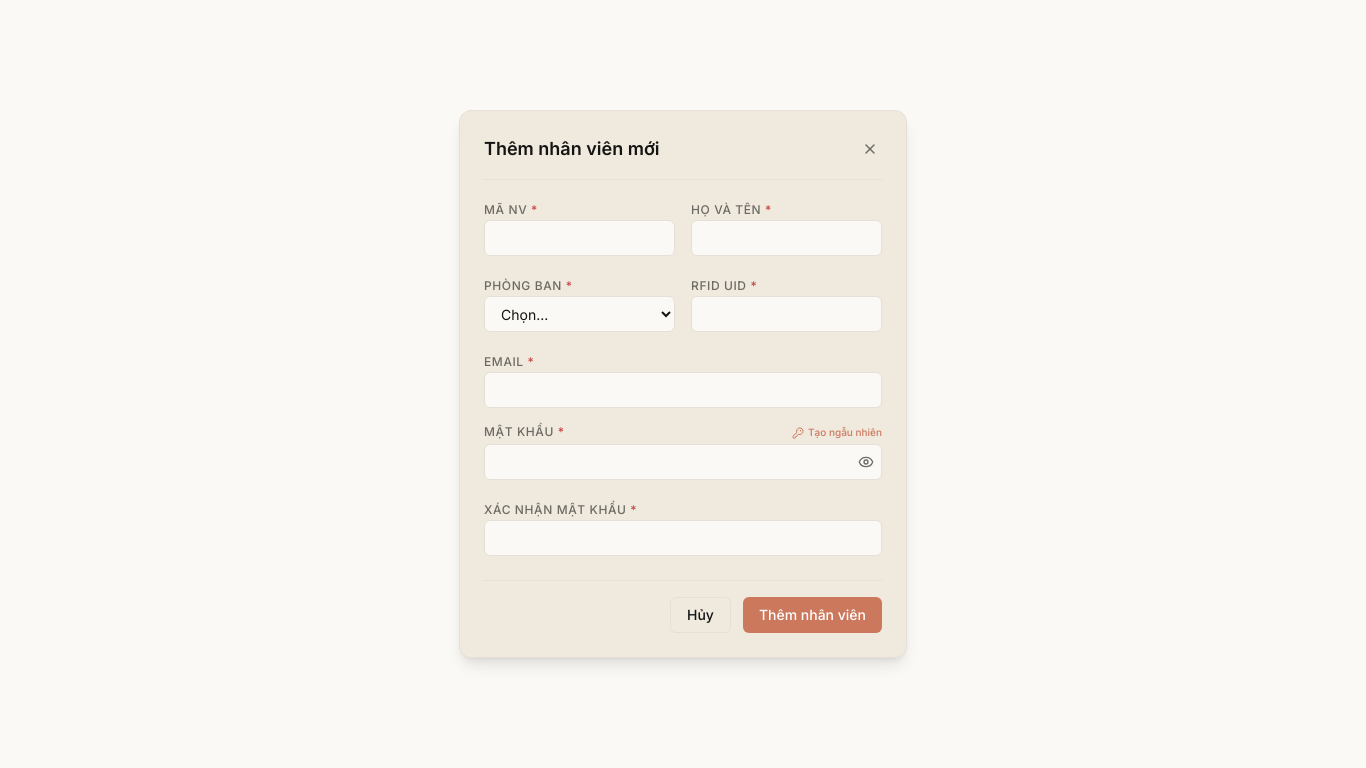
AddEmployeeModal › validates email address format
Type "Test Name" into the field labelled "Họ và tên *" at (786, 238), box [691,220,882,256]
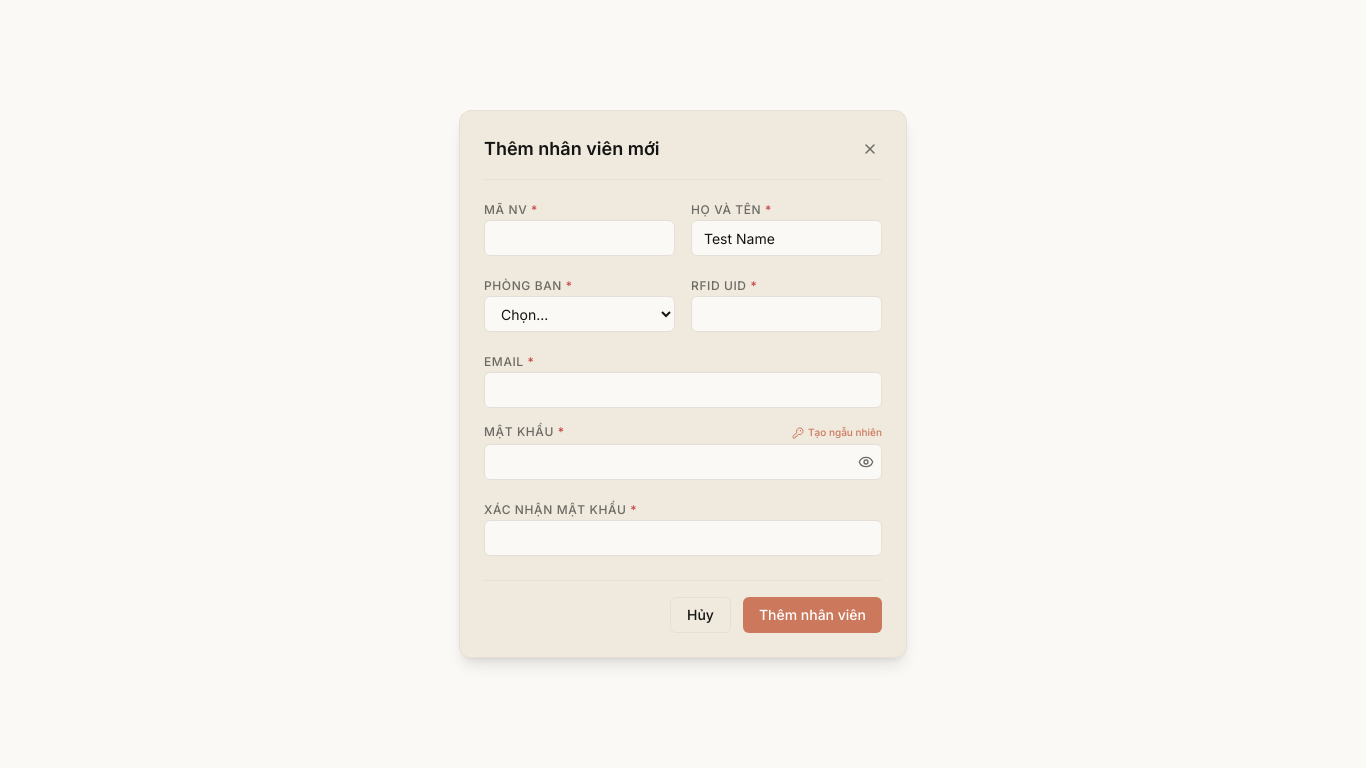
Type "NV99" into the field labelled "Mã NV *" at (580, 238), box [484,220,675,256]
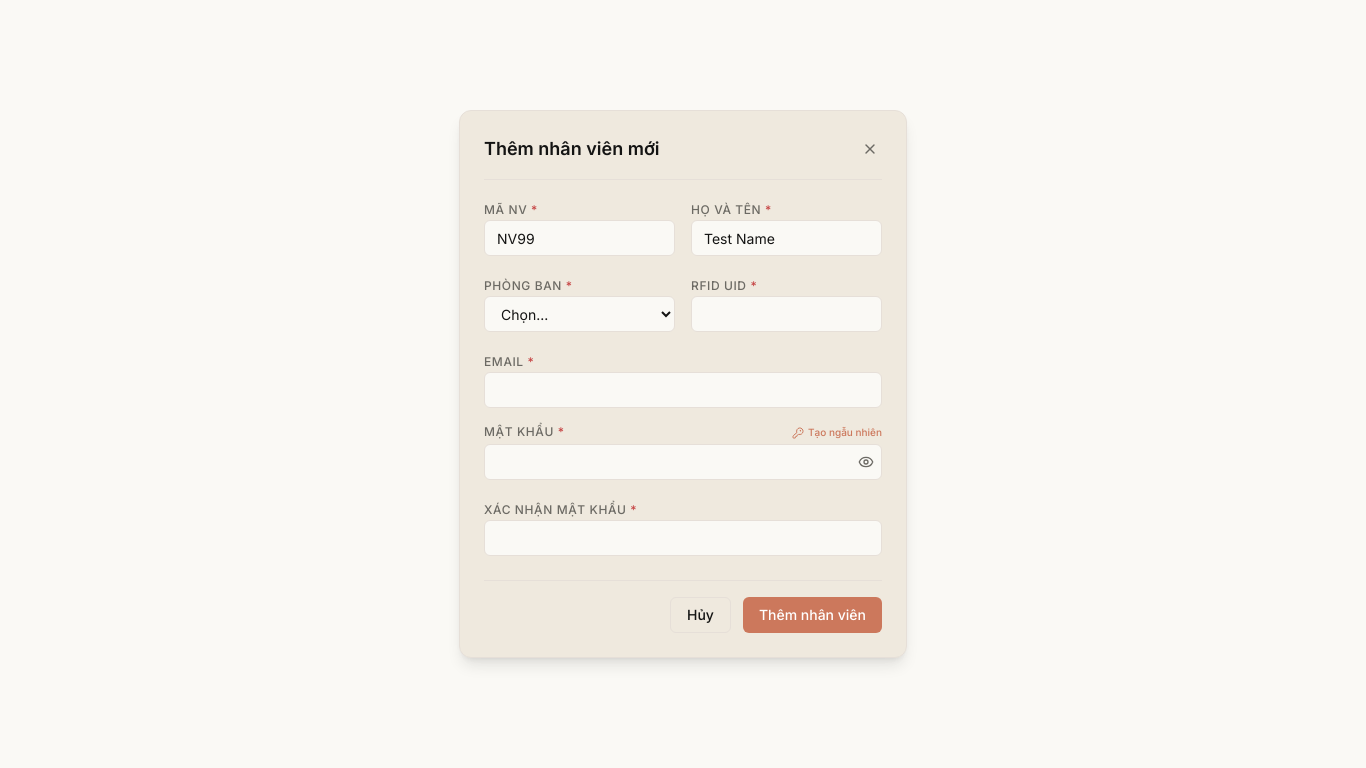
Type "invalid-email" into the field labelled "Email *" at (683, 390), box [484,372,882,408]
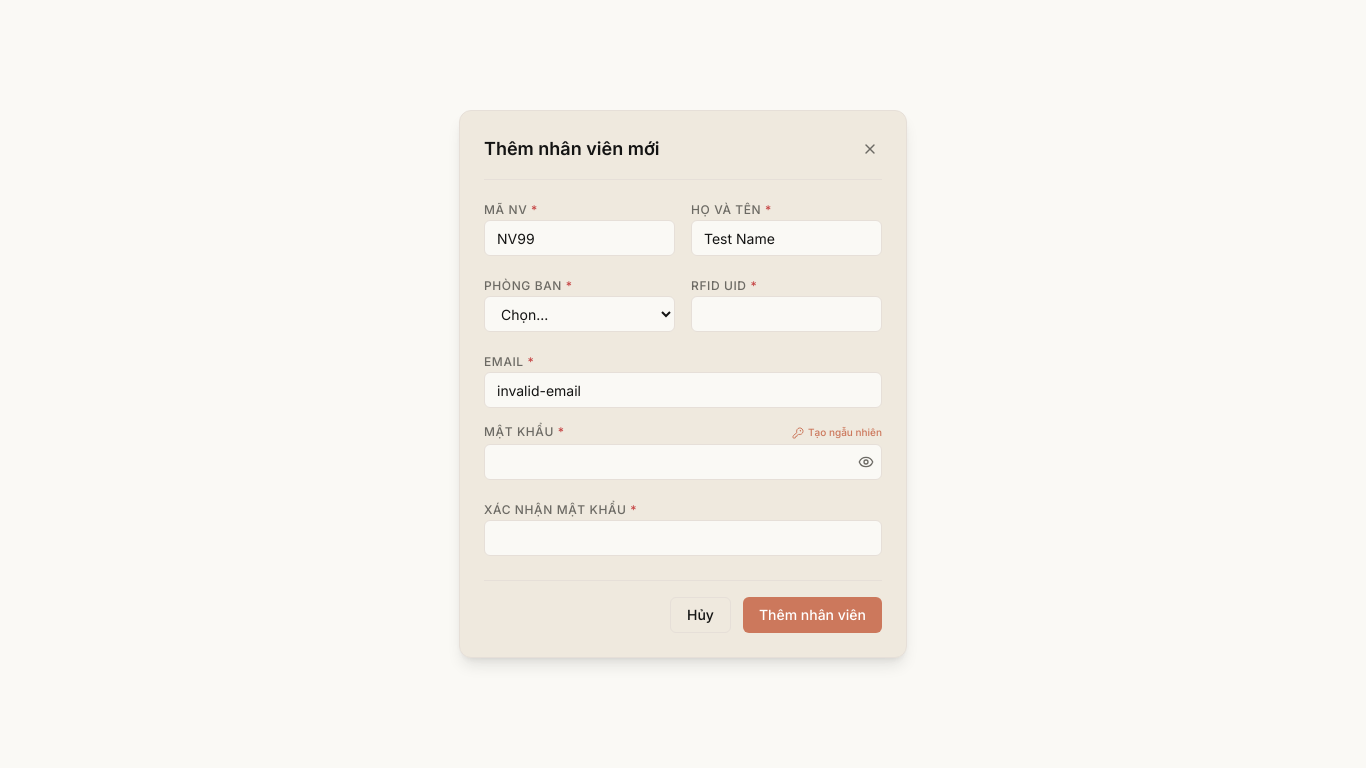
Click the button "Thêm nhân viên" at (812, 615), box [743,597,882,633]
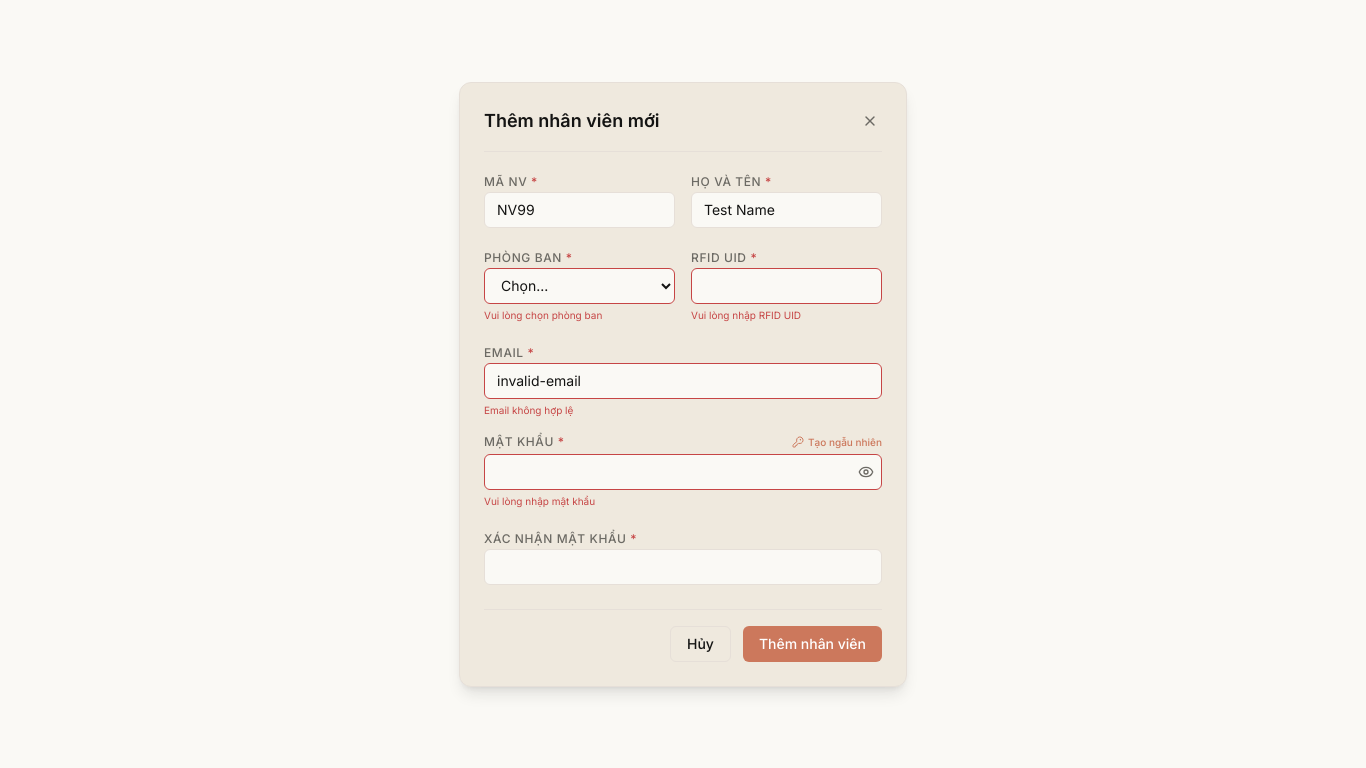
Result: the text "Email không hợp lệ" is shown at [484,404,573,416]
